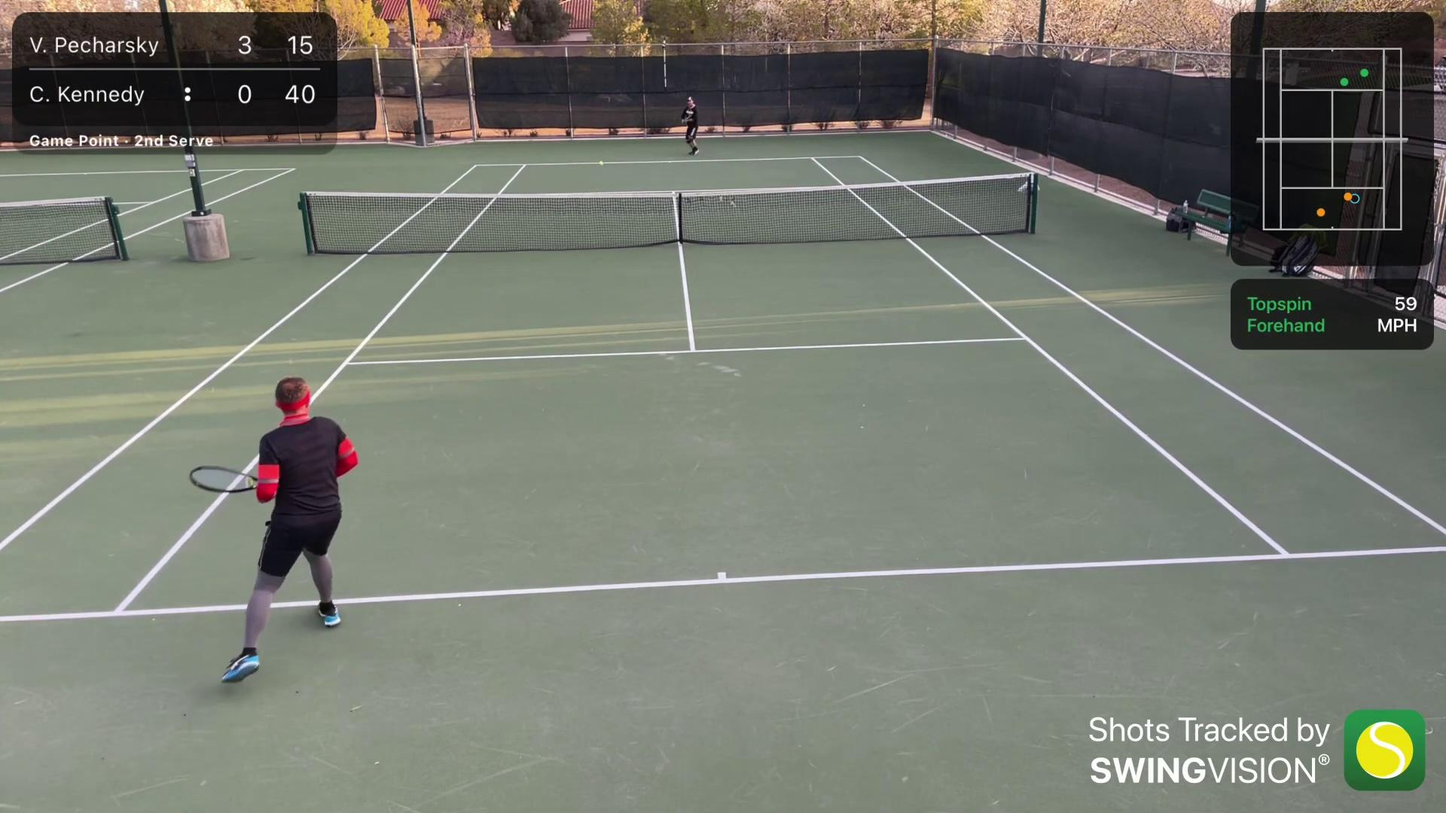ball: (599, 160, 606, 166)
